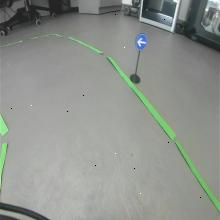left: (135, 32, 149, 50)
